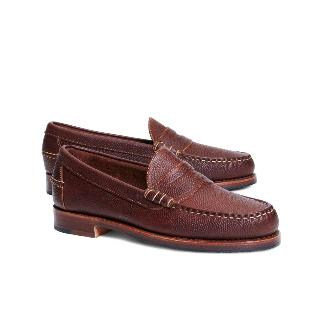loafers: (36, 106, 284, 258)
